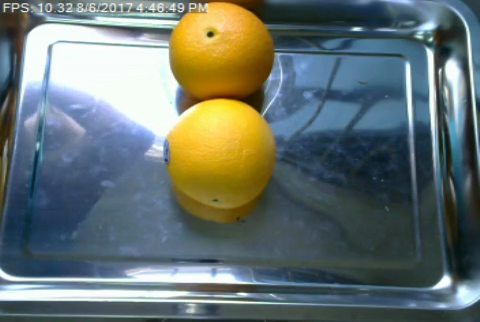Orange: (163, 96, 275, 207), (168, 1, 273, 103)
